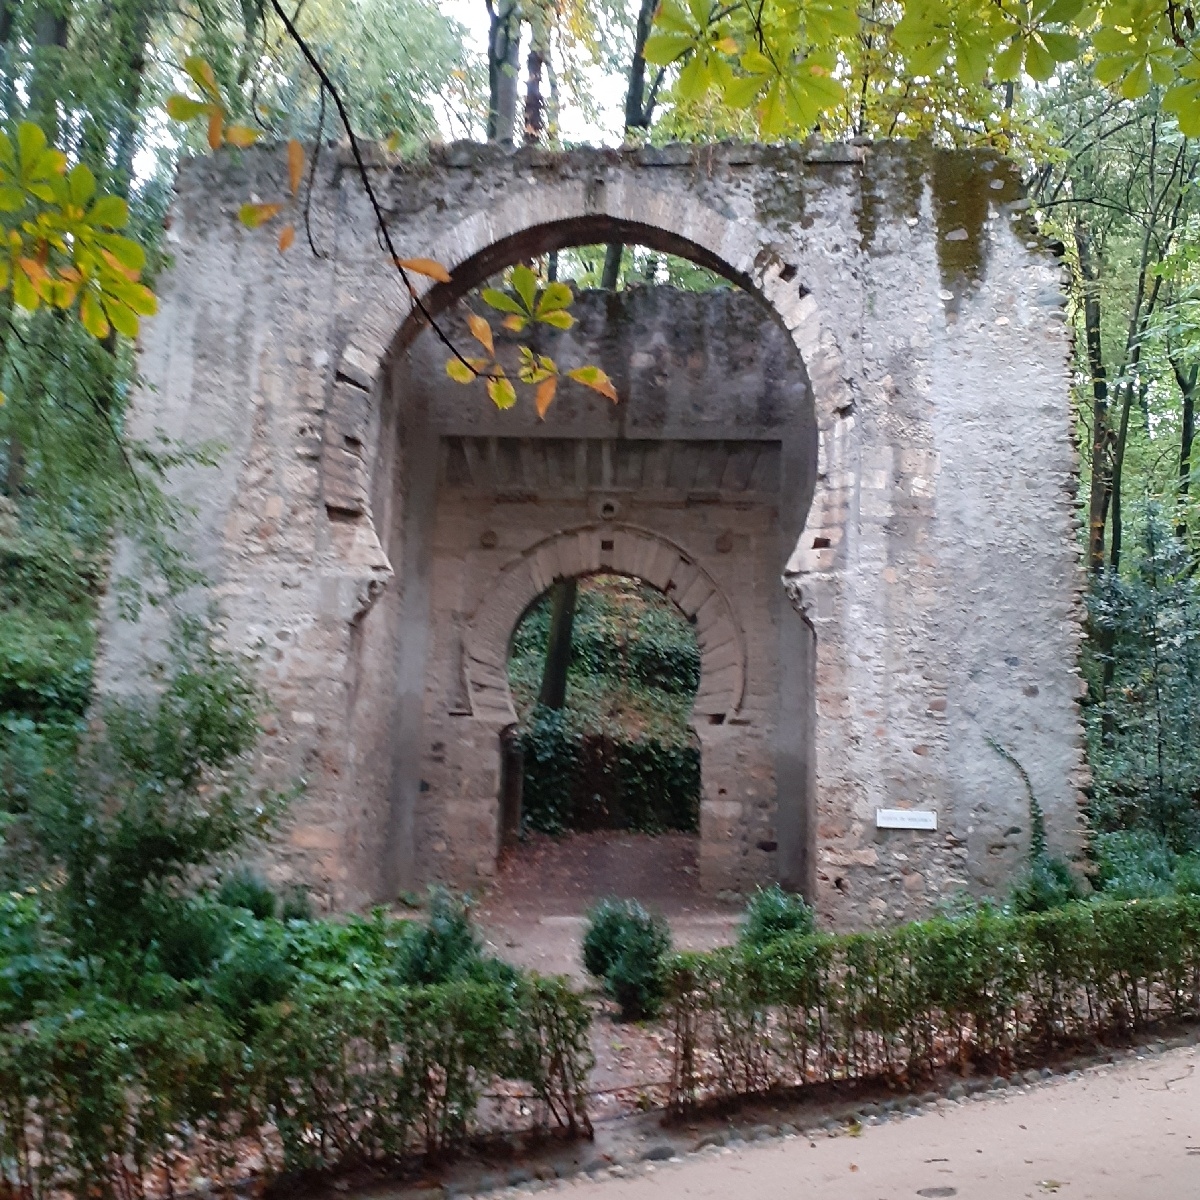arco-herradura: (331, 198, 838, 635), (479, 555, 718, 762)
